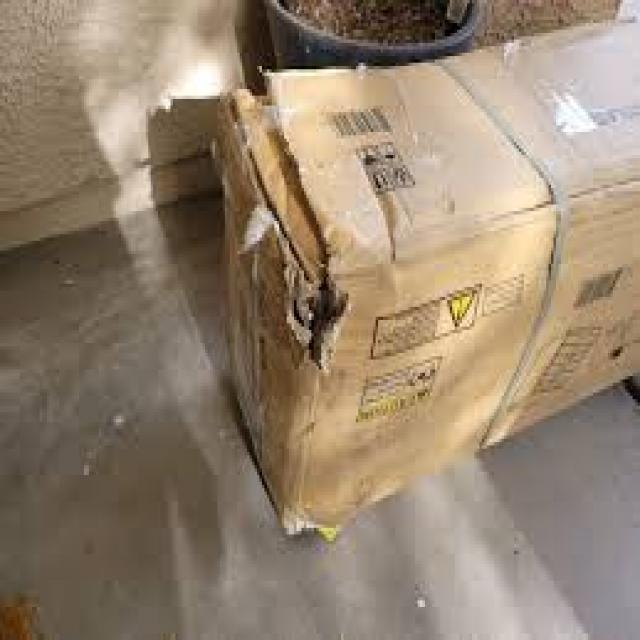hole: (287, 257, 352, 367)
